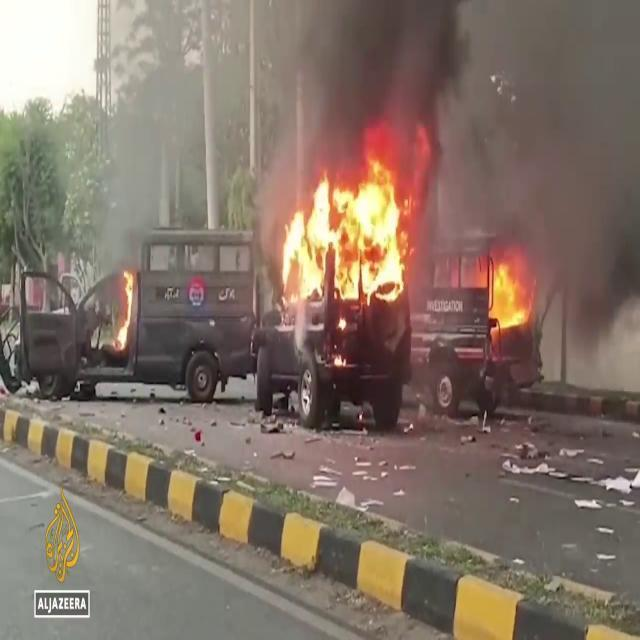Fire: (274, 152, 420, 310), (478, 246, 534, 337), (112, 266, 138, 354)
Smoke: (430, 1, 640, 358), (78, 3, 252, 286)
